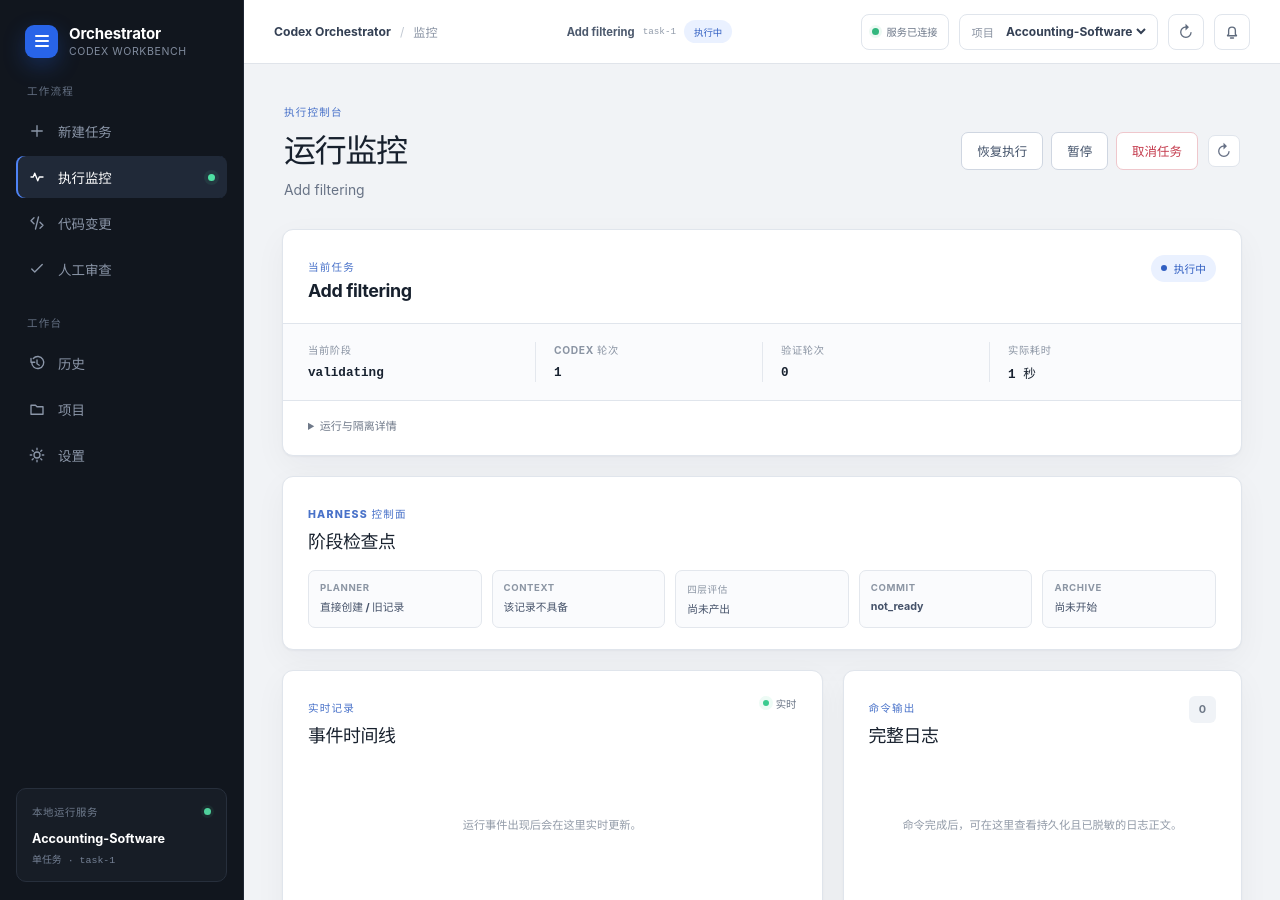
it: App workbench › requests a cooperative pause from the monitor
Click the button "暂停" at (1080, 151), box [1051,132,1108,170]
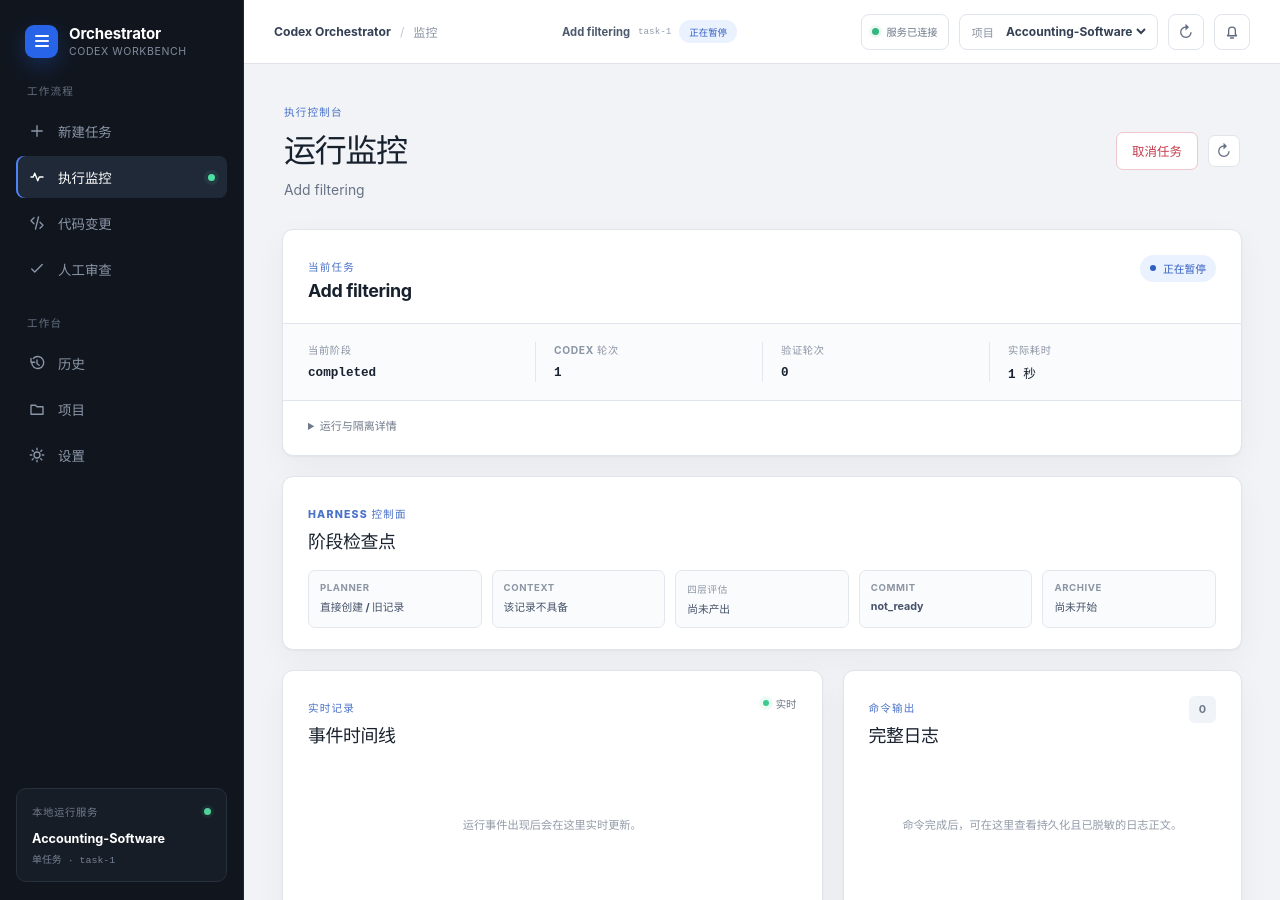
Check: the element with test id "task-status" shows "正在暂停", box [1163,263,1206,276]
